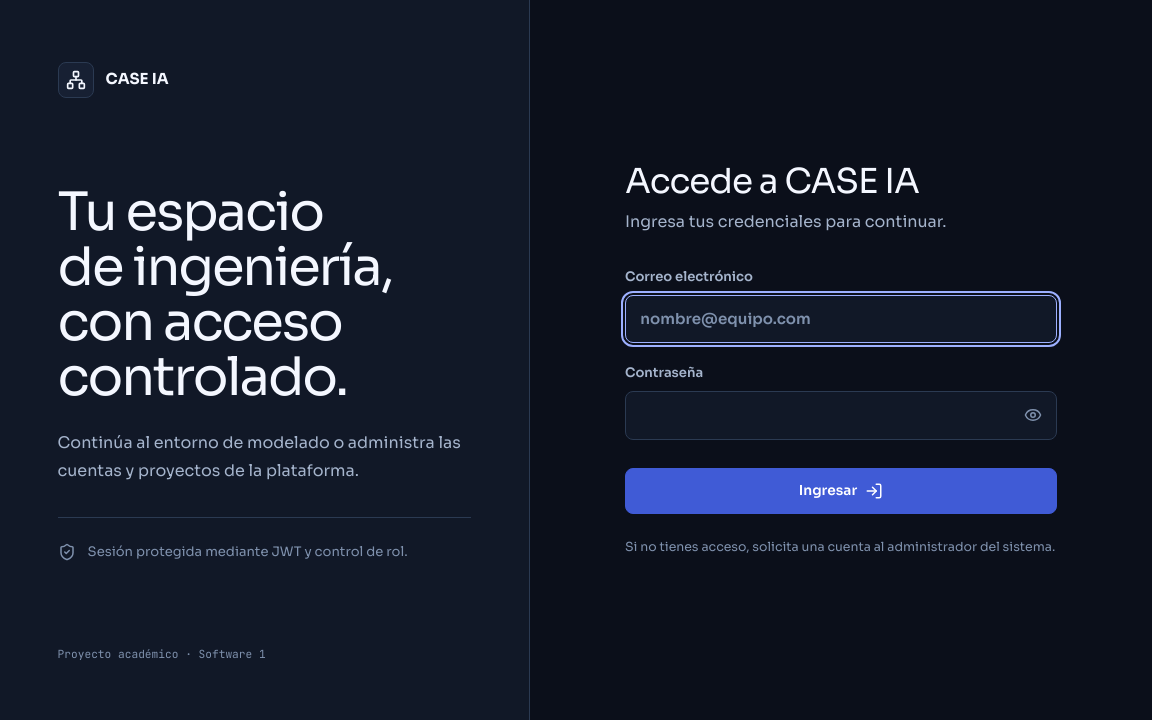
Test case: rutas públicas de la plataforma CASE › inicia sesión como administrador, guarda la sesión y redirige al panel
The width and height of the screenshot is (1152, 720).
Type "admin@case.local" into the field labelled "Correo electrónico". click: x=841, y=319
box: [625,295,1057,343]
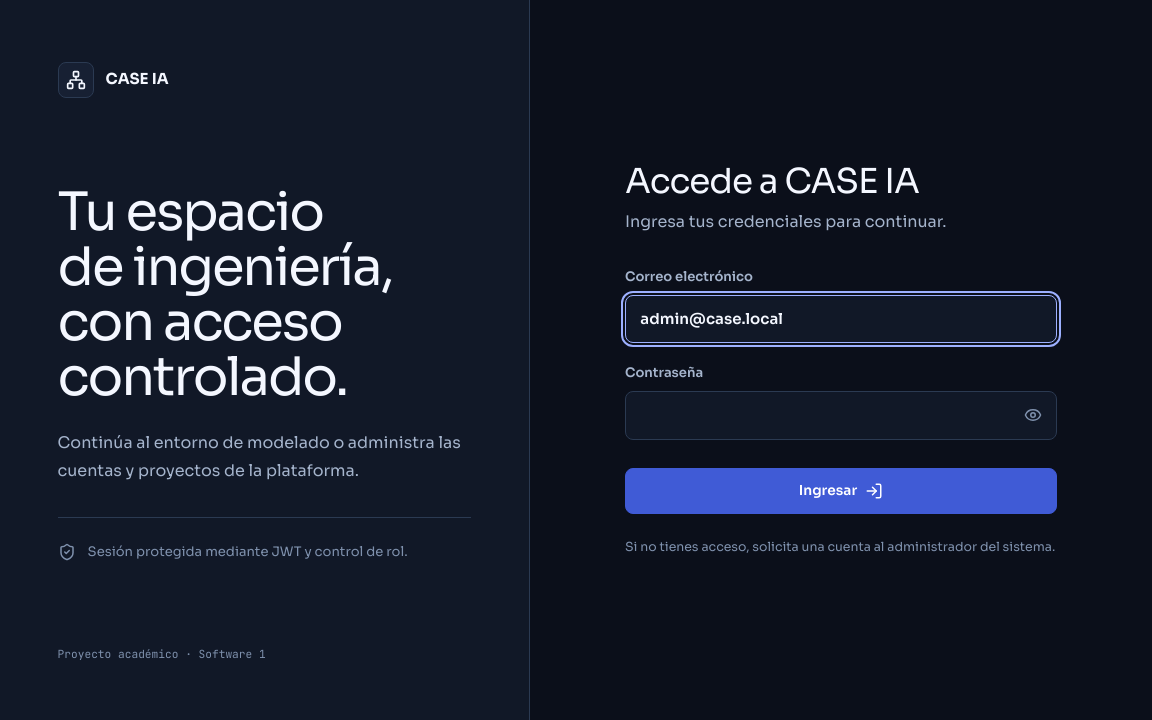
Type "Admin2026!" into the password field labelled "Contraseña". click: x=841, y=415
box: [625,391,1057,440]
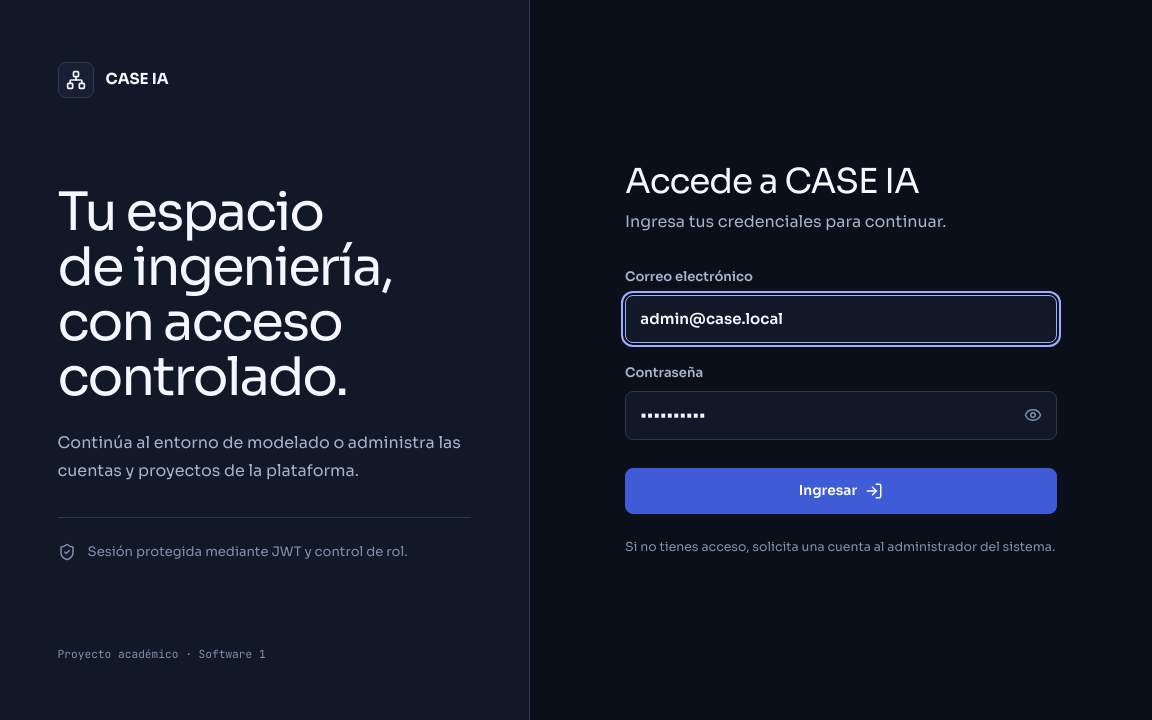
Click the button "Ingresar". click: x=841, y=491
box: [625,468,1057,514]
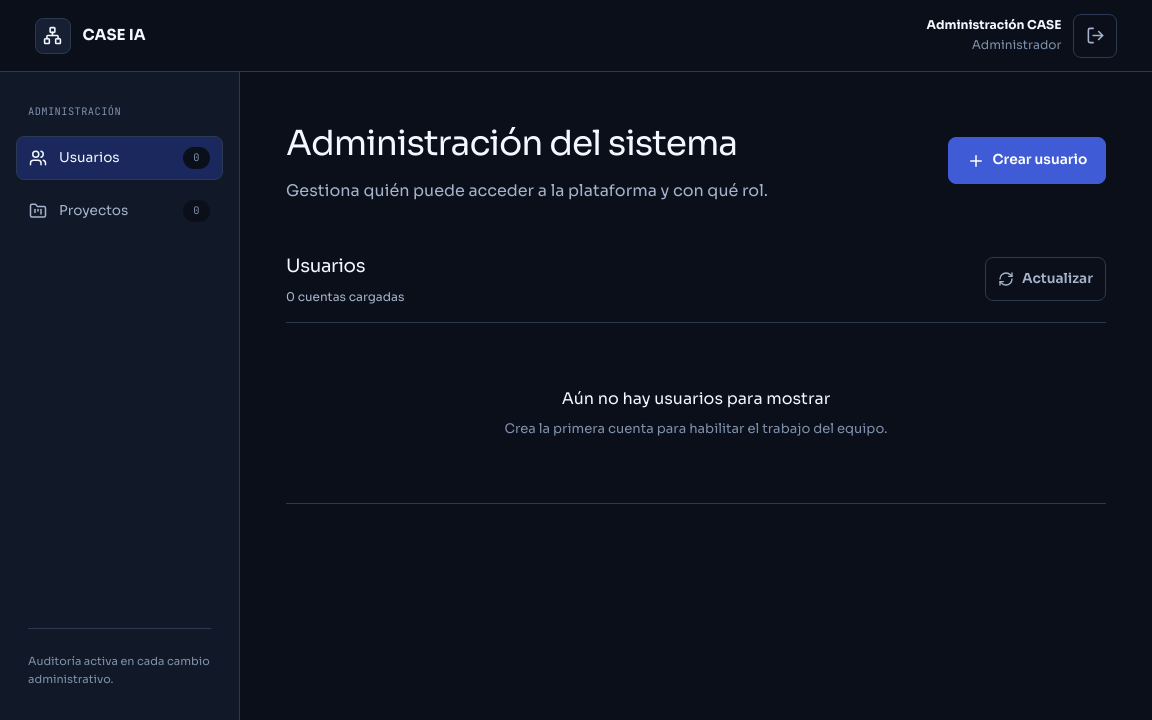
Check: the heading "Administración del sistema" is shown, box [286,118,768,170]
